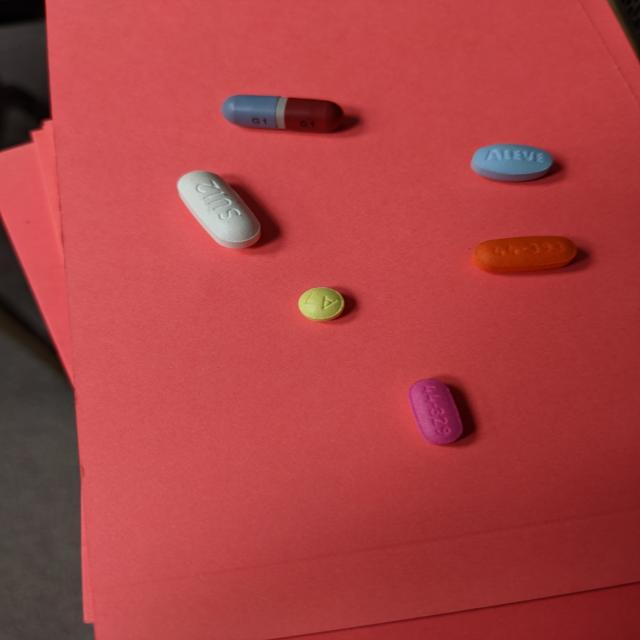non-organic waste: (176, 169, 264, 250), (220, 93, 348, 134), (472, 234, 580, 274), (408, 378, 465, 447), (468, 142, 556, 183), (298, 286, 348, 322)
